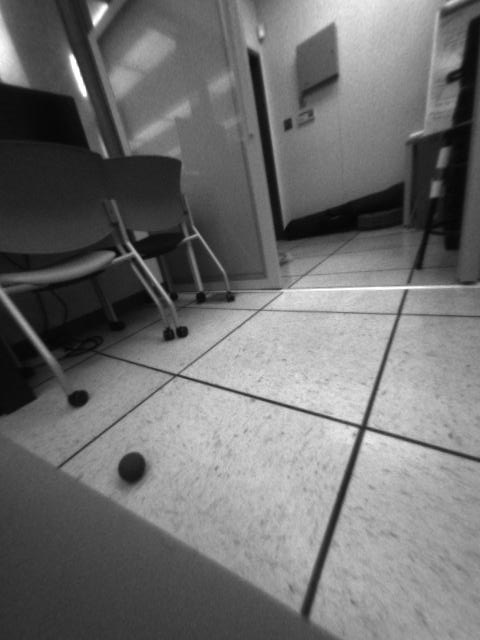dogtoy: (113, 445, 151, 490)
